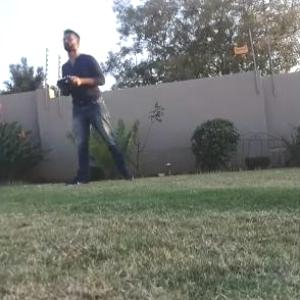follow: (53, 22, 133, 192)
